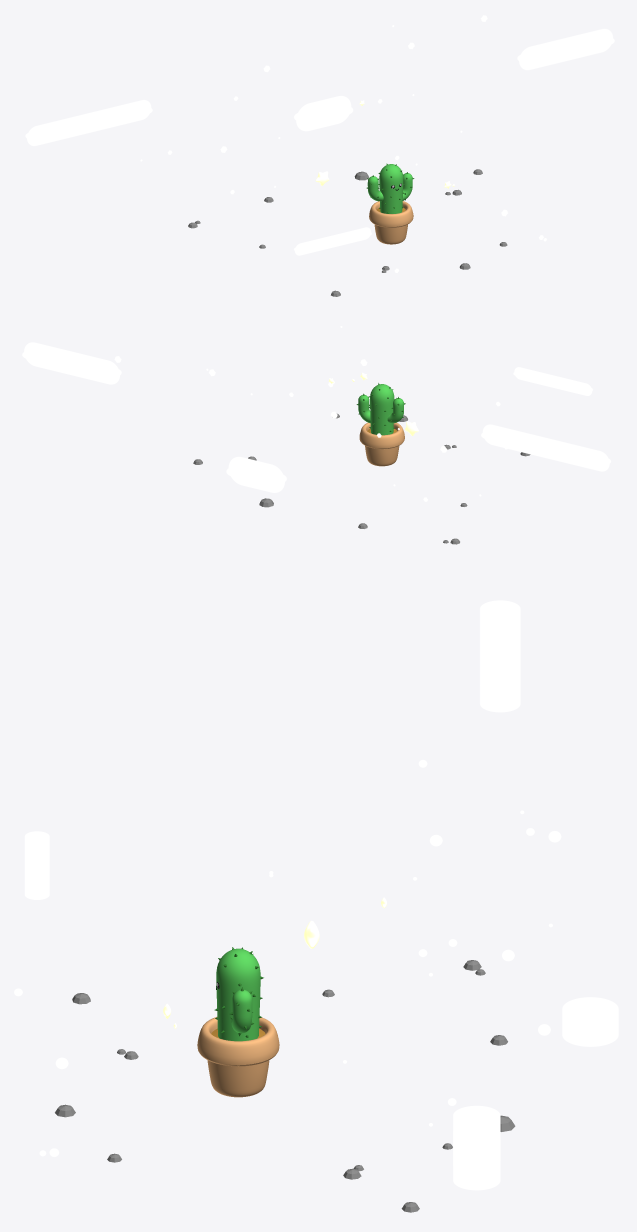
The model's file is kawaii_cactus.glb.
3 views of the same model, one above another, from view 1: azimuth 30°, elevation 25°; view 2: azimuth 150°, elevation 25°; view 3: azimuth 270°, elevation 25° (orthographic). The views are drawn at different scales.
Visible parts, largest first — view 1: Bokeh_Long002_Bokeh_0, Bokeh_Med001_Bokeh_0, Bokeh_Short001_Bokeh_0, Pot, Cactus, Bokeh_Long001_Bokeh_0; view 2: Bokeh_Long002_Bokeh_0, Bokeh_Med001_Bokeh_0, Bokeh_Short001_Bokeh_0, Pot, Cactus, Bokeh_Long001_Bokeh_0; view 3: Bokeh_Long002_Bokeh_0, Pot, Bokeh_Med001_Bokeh_0, Cactus, Bokeh_Short001_Bokeh_0, Bokeh_Long001_Bokeh_0.
Boxes of the visible parts, <box> form: Bokeh_Long002_Bokeh_0: <box>25,100,152,145</box>; Bokeh_Med001_Bokeh_0: <box>517,28,614,70</box>; Bokeh_Short001_Bokeh_0: <box>294,96,353,131</box>; Pot: <box>369,201,413,244</box>; Cactus: <box>379,164,403,213</box>; Bokeh_Long001_Bokeh_0: <box>294,227,371,255</box>; Bokeh_Long002_Bokeh_0: <box>481,424,610,471</box>; Bokeh_Med001_Bokeh_0: <box>22,342,121,384</box>; Bokeh_Short001_Bokeh_0: <box>226,456,286,492</box>; Pot: <box>359,422,404,466</box>; Cactus: <box>370,384,394,435</box>; Bokeh_Long001_Bokeh_0: <box>513,367,592,395</box>; Bokeh_Long002_Bokeh_0: <box>480,600,520,712</box>; Pot: <box>197,1017,279,1097</box>; Bokeh_Med001_Bokeh_0: <box>453,1105,500,1190</box>; Cactus: <box>216,948,260,1041</box>; Bokeh_Short001_Bokeh_0: <box>562,997,618,1046</box>; Bokeh_Long001_Bokeh_0: <box>24,831,49,899</box>.
Size of the model in its own units: 9.35 by 2.01 by 4.53.
9 materials, 9 textured.
